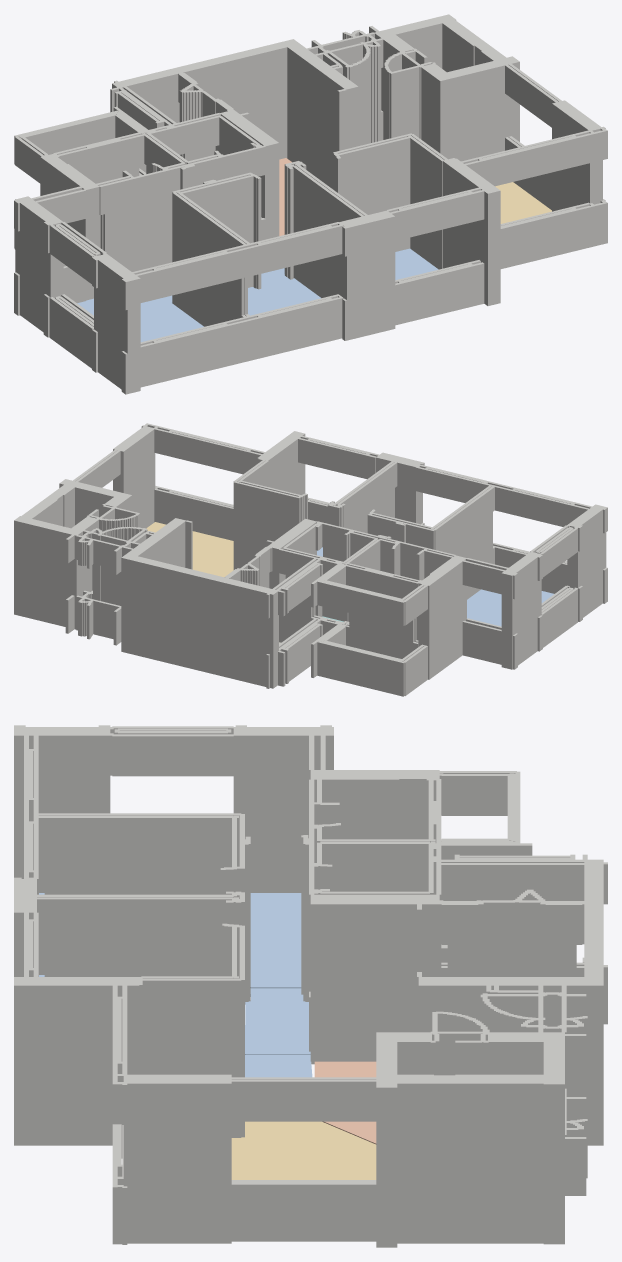
3 renders of one model, top to bottom at view 1: azimuth 30°, elevation 25°; view 2: azimuth 150°, elevation 25°; view 3: azimuth 270°, elevation 25°, orthographic. The views are drawn at different scales.
Parts seen in each view (by area): view 1: walls, room:bedroom:6, room:bedroom:3, room:living:4, room:bedroom:5; view 2: walls, room:living:4, room:bedroom:6; view 3: walls, room:living:4, room:bedroom:6, room:bedroom:3, room:kitchen:2, room:bedroom:5.
Part boxes in pixels (x1,y1,x2,y2): walls: (14,14,607,394); room:bedroom:6: (77,295,203,342); room:bedroom:3: (248,268,321,315); room:living:4: (495,182,551,223); room:bedroom:5: (395,248,438,279); walls: (14,423,607,696); room:living:4: (146,522,233,577); room:bedroom:6: (467,589,553,626); walls: (14,725,607,1247); room:living:4: (231,1121,376,1179); room:bedroom:6: (39,893,301,988); room:bedroom:3: (39,975,310,1054); room:kitchen:2: (314,1061,376,1144); room:bedroom:5: (245,1055,312,1077).
Bounding box in the file's own units: 13.59 × 2.8 × 9.42.
